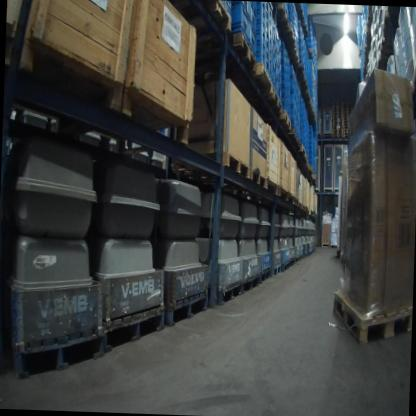pallet: (9, 321, 104, 382), (332, 290, 413, 344), (104, 301, 166, 356), (194, 30, 257, 75), (165, 287, 209, 329), (182, 0, 232, 35), (204, 151, 252, 180), (217, 277, 243, 306), (263, 87, 283, 114), (269, 109, 292, 130), (242, 270, 261, 294), (384, 12, 398, 39), (250, 169, 267, 189), (276, 3, 289, 29), (283, 23, 296, 47), (380, 37, 394, 56), (411, 49, 416, 97), (286, 124, 297, 143), (260, 267, 271, 284), (291, 45, 300, 64), (271, 263, 282, 277), (377, 57, 388, 71), (302, 21, 309, 38), (281, 260, 290, 273), (364, 42, 370, 58), (296, 135, 301, 149), (289, 257, 295, 267), (294, 256, 300, 264), (309, 165, 314, 174), (333, 115, 344, 119), (333, 135, 344, 139), (333, 106, 343, 110), (333, 109, 343, 113), (333, 121, 343, 125), (333, 123, 343, 127), (333, 126, 343, 130), (333, 129, 343, 133), (333, 132, 343, 136), (307, 249, 312, 257), (294, 197, 298, 206), (343, 111, 352, 115), (330, 244, 337, 249), (302, 204, 306, 212), (298, 201, 302, 209), (306, 162, 310, 170), (305, 154, 308, 164), (333, 112, 343, 115), (333, 118, 343, 121), (343, 114, 350, 118), (299, 254, 303, 261), (303, 252, 307, 259), (343, 109, 352, 112), (343, 106, 352, 109), (343, 132, 348, 136), (343, 126, 349, 129), (344, 118, 350, 121), (344, 135, 348, 139), (344, 120, 348, 124), (343, 129, 348, 132), (343, 123, 348, 126)
small_load_carrier: (230, 1, 250, 43), (247, 19, 258, 58), (248, 1, 258, 34), (232, 1, 249, 16), (219, 0, 231, 17), (256, 49, 266, 68), (256, 16, 267, 32), (256, 6, 266, 21), (256, 38, 266, 53), (272, 68, 278, 91), (257, 29, 266, 44), (272, 40, 278, 62), (272, 54, 278, 75), (276, 40, 282, 60), (277, 77, 282, 101), (290, 91, 296, 111), (272, 17, 278, 35), (277, 65, 282, 86), (265, 28, 271, 45), (272, 27, 277, 47), (277, 52, 282, 72), (265, 58, 270, 76), (265, 8, 270, 25), (290, 77, 295, 94), (268, 42, 273, 58), (265, 2, 270, 18), (256, 2, 266, 10), (290, 65, 295, 81), (269, 51, 273, 70), (268, 32, 273, 47), (265, 48, 270, 63), (265, 19, 270, 34), (268, 24, 273, 38), (265, 39, 270, 53), (290, 107, 296, 118), (268, 7, 273, 20), (268, 16, 273, 29), (290, 115, 295, 128), (269, 66, 273, 82), (252, 1, 257, 13), (295, 105, 298, 119), (298, 128, 301, 140), (295, 118, 297, 132), (297, 124, 299, 137)
